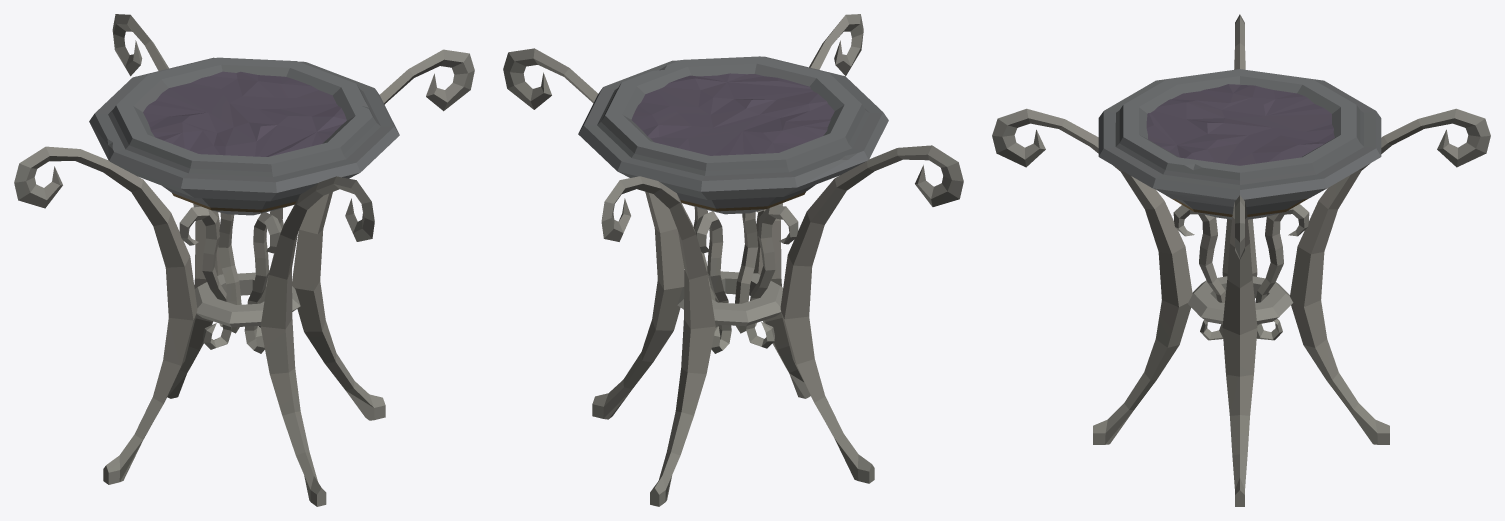
File: elven_SM_Prop_birdBath_01.gltf
3 views of the same model, side by side, from view 1: azimuth 30°, elevation 25°; view 2: azimuth 150°, elevation 25°; view 3: azimuth 270°, elevation 25° (orthographic). The views are drawn at different scales.
Parts seen in each view (by area): view 1: SM_Prop_birdBath_01, water; view 2: SM_Prop_birdBath_01, water; view 3: SM_Prop_birdBath_01, water.
Boxes of the visible parts, bbox=[...] form: SM_Prop_birdBath_01: bbox=[14, 14, 474, 506]; water: bbox=[143, 71, 346, 156]; SM_Prop_birdBath_01: bbox=[503, 14, 963, 506]; water: bbox=[631, 73, 834, 155]; SM_Prop_birdBath_01: bbox=[992, 14, 1490, 506]; water: bbox=[1146, 84, 1334, 165].
Size of the model in its own units: 1.63 by 1.18 by 1.6.
Materials: 1 (1 with a texture image).
